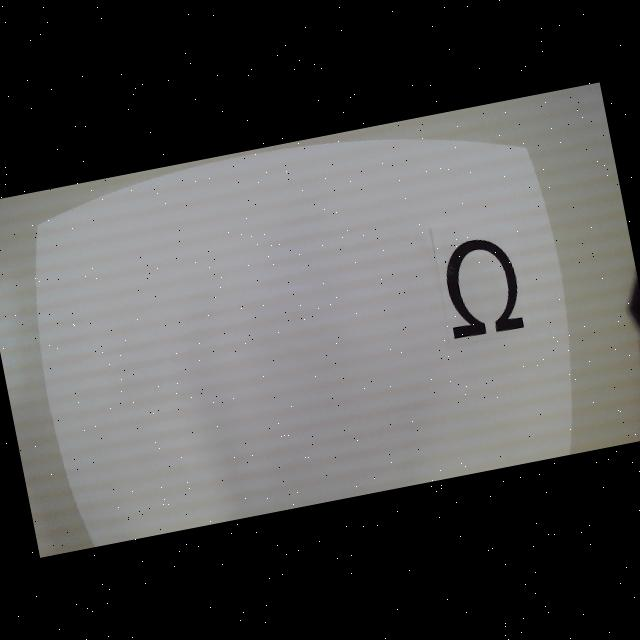OMEGA: (438, 233, 526, 342)
